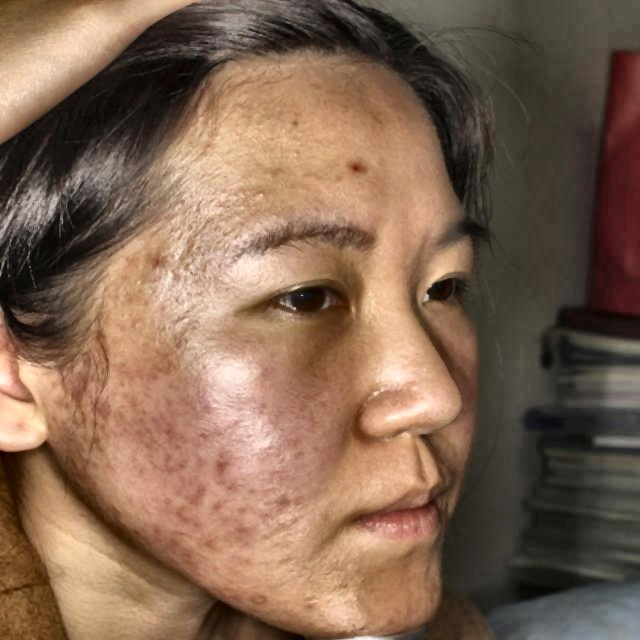pustule: (342, 160, 382, 184), (222, 518, 259, 543), (144, 248, 178, 275), (162, 533, 198, 556), (198, 533, 224, 560), (196, 446, 230, 465), (184, 478, 203, 508)
